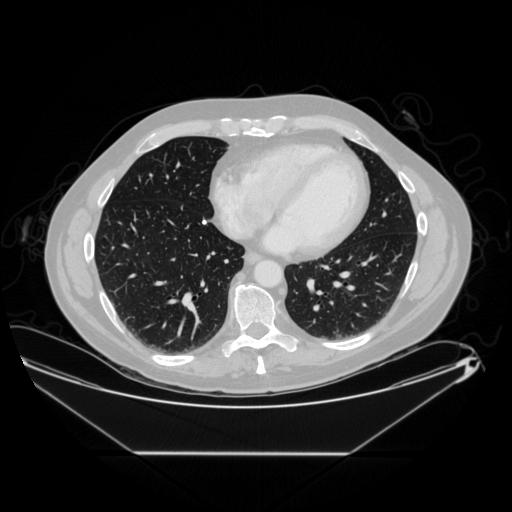nodule: (199, 217, 209, 227)
